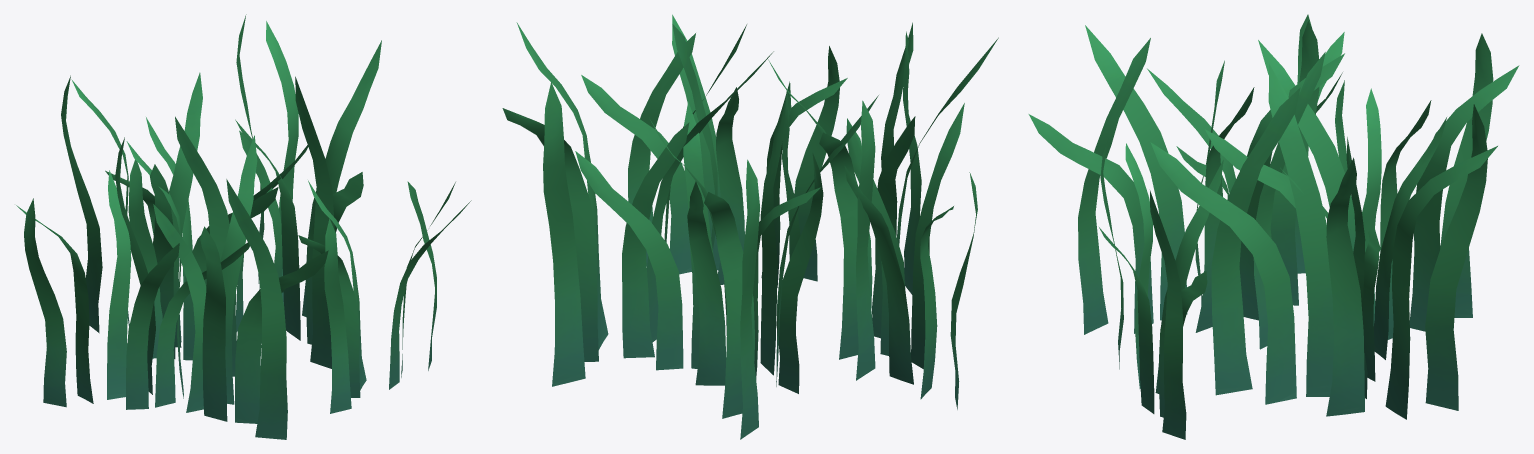
The model's file is Stylized Grass.fbx.
The picture shows the model from 3 angles, left to right: view 1: azimuth 30°, elevation 25°; view 2: azimuth 150°, elevation 25°; view 3: azimuth 270°, elevation 25°; orthographic projection. The views are drawn at different scales.
Visible parts, largest first — view 1: Grass; view 2: Grass; view 3: Grass.
Part boxes in pixels (x1,y1,x2,y2): Grass: [16, 14, 471, 439]; Grass: [502, 14, 998, 439]; Grass: [1028, 14, 1519, 439].
Bounding box in the file's own units: 0.4505 × 0.3002 × 0.4376.
